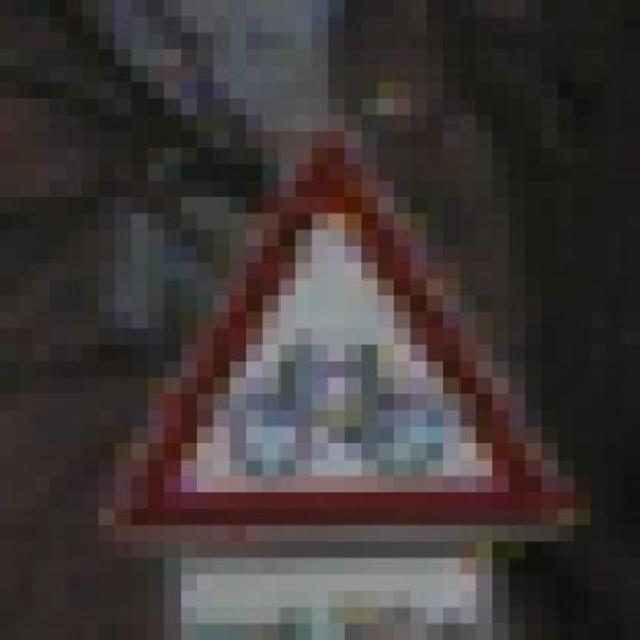CYCLE ROUTE AHEAD WARNING: (82, 115, 608, 558)
